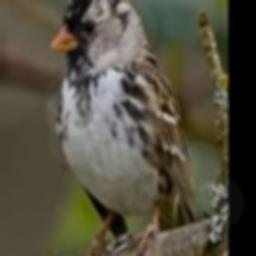Sparrow: (51, 0, 198, 256)
